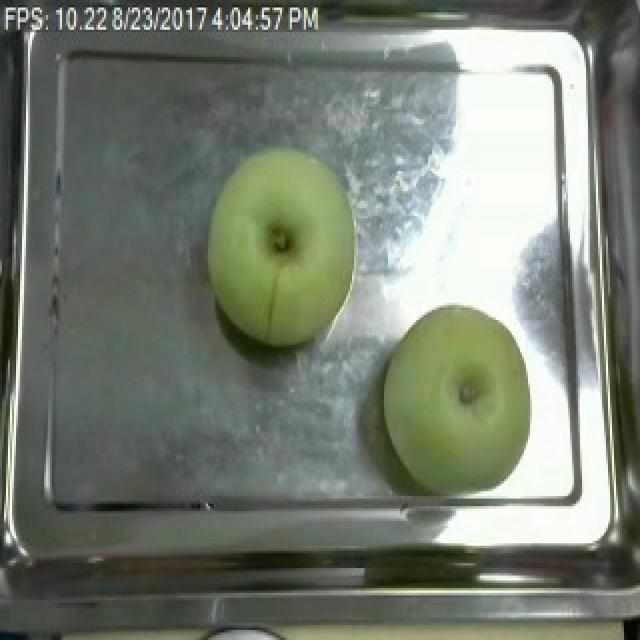50-_ripeness: (188, 135, 364, 351), (385, 304, 540, 496)
